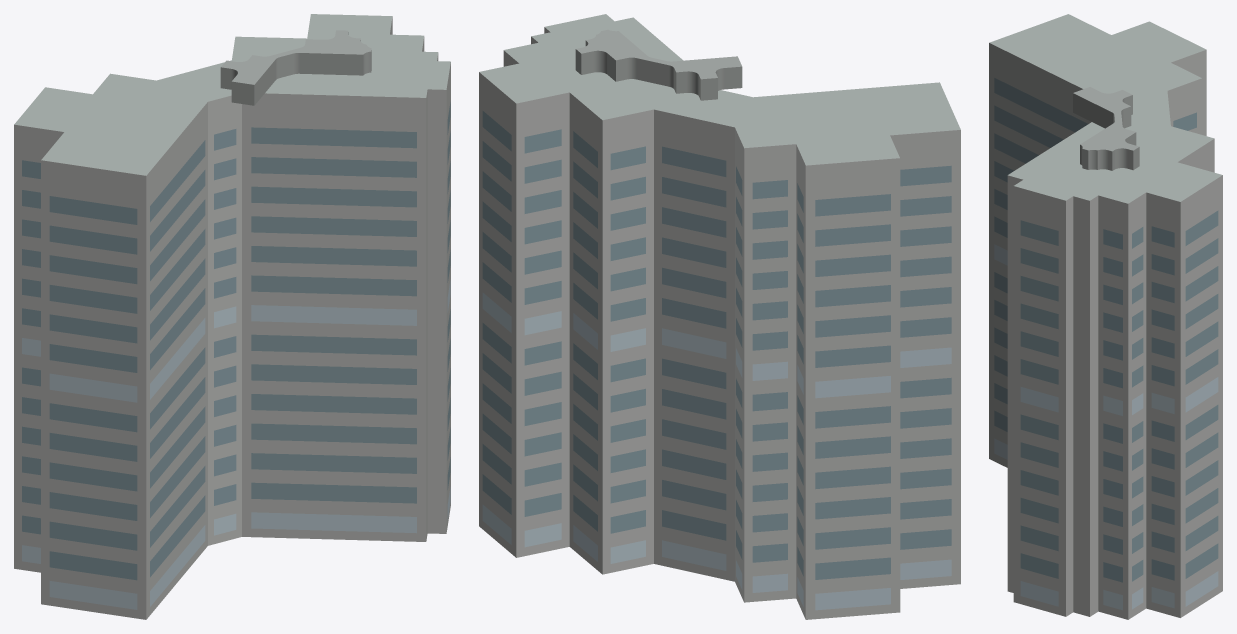
File: fallback-godeok-arteon-completion-341.glb
3 renders of one model, left to right at view 1: azimuth 30°, elevation 25°; view 2: azimuth 150°, elevation 25°; view 3: azimuth 270°, elevation 25°, orthographic. The views are drawn at different scales.
Visible parts, largest first — view 1: fallback-godeok-arteon-completion-341; view 2: fallback-godeok-arteon-completion-341; view 3: fallback-godeok-arteon-completion-341.
Part boxes in pixels (<box>): fallback-godeok-arteon-completion-341: <box>14,14,450,619</box>; fallback-godeok-arteon-completion-341: <box>479,14,960,619</box>; fallback-godeok-arteon-completion-341: <box>989,14,1222,619</box>.
Bounding box in the file's own units: 42.98 × 46 × 22.36.
